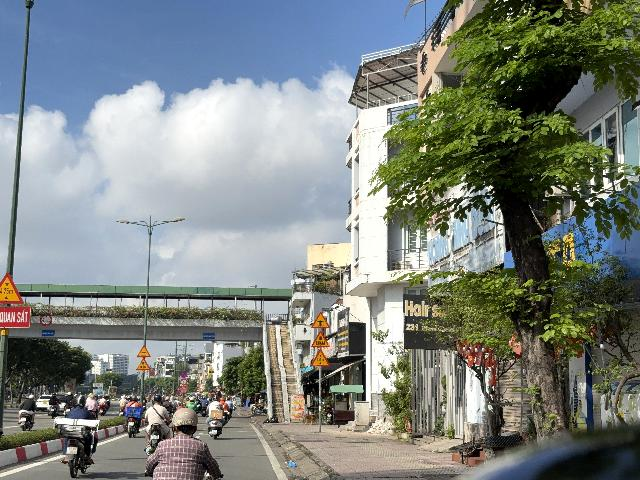chieu-cao-tinh-khong-thuc-te: (0, 272, 24, 305), (311, 348, 330, 367)
di-cham: (311, 331, 330, 347), (136, 358, 151, 370)
han-che-chieu-cao: (39, 313, 53, 327)
noi-giao-nhau-voi-duong-sat-co-rao-chan: (311, 310, 331, 328), (137, 345, 151, 357)
